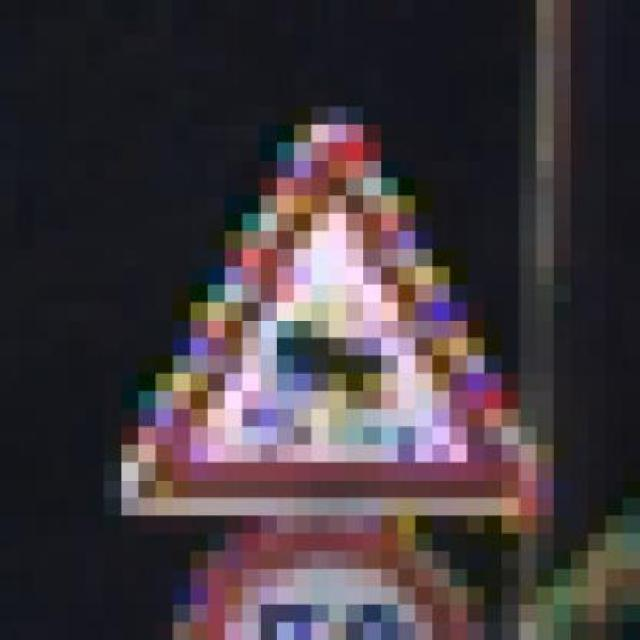Slippery Road Ahead: (103, 106, 554, 534)
